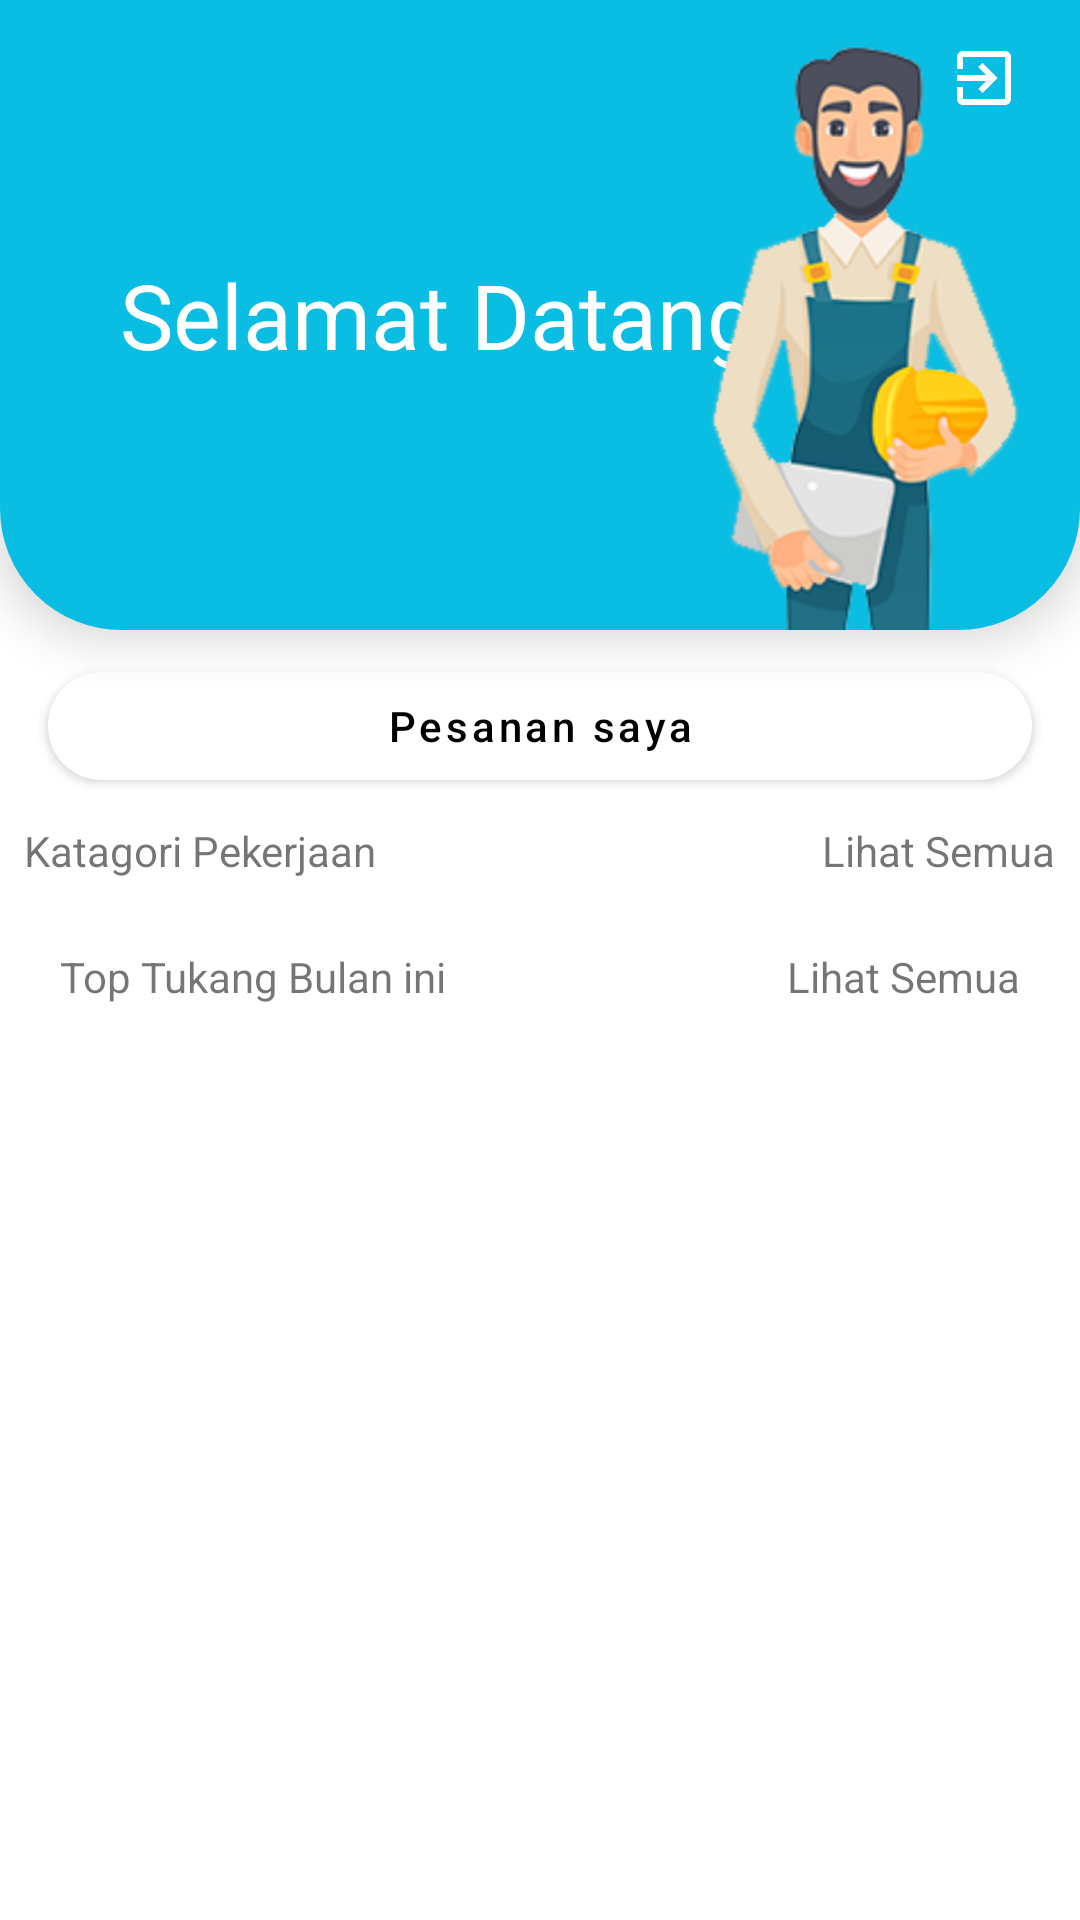

Named icons in this screenshot (1080*1920) and their centers, (x,y):
exit to app: (984,78)
